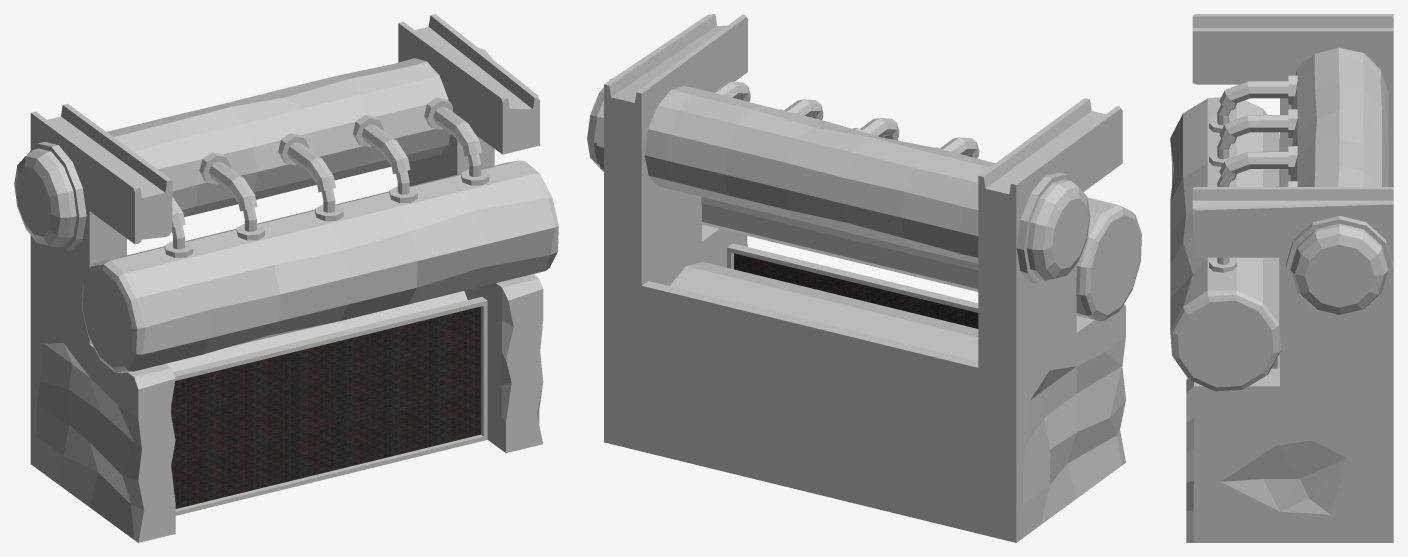
File: SM_Device_A.fbx
3 views of the same model, side by side, from view 1: azimuth 30°, elevation 25°; view 2: azimuth 150°, elevation 25°; view 3: azimuth 270°, elevation 25° (orthographic). The views are drawn at different scales.
Visible parts, largest first — view 1: SM_Device_A; view 2: SM_Device_A; view 3: SM_Device_A.
Boxes of the visible parts, left/top/right/bottom form: SM_Device_A: left=14, top=14, right=558, bottom=542; SM_Device_A: left=587, top=14, right=1141, bottom=542; SM_Device_A: left=1170, top=14, right=1393, bottom=542.
Size of the model in its own units: 322 by 237 by 142.
